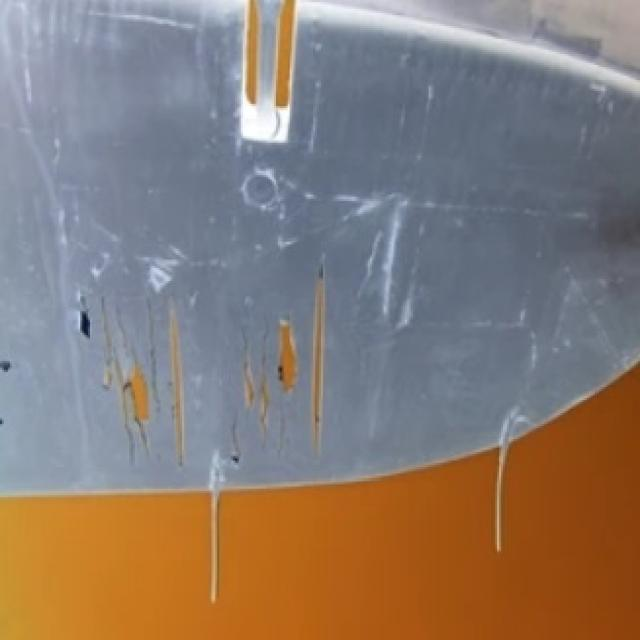crack: (86, 242, 335, 474)
